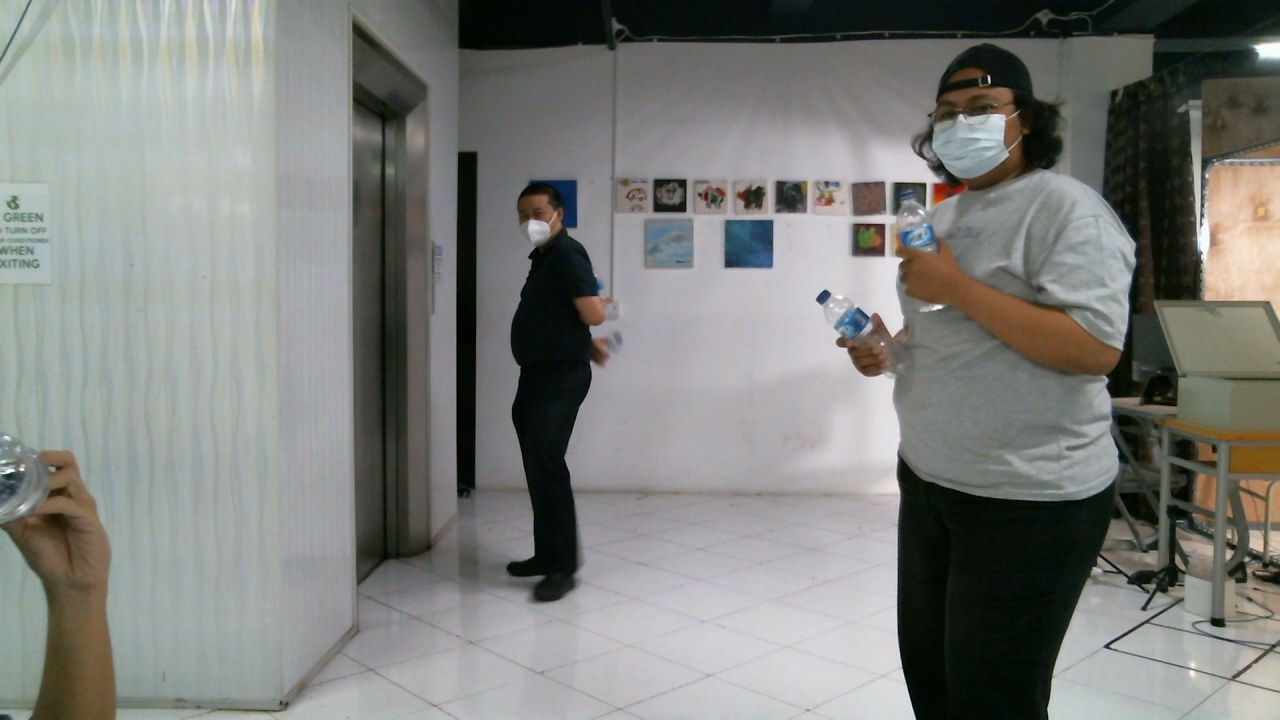Bottle: (815, 290, 899, 378)
